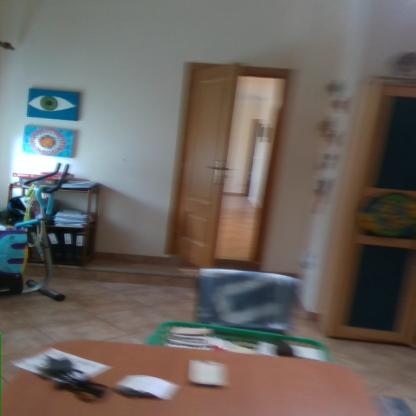semi: (173, 55, 302, 278)
